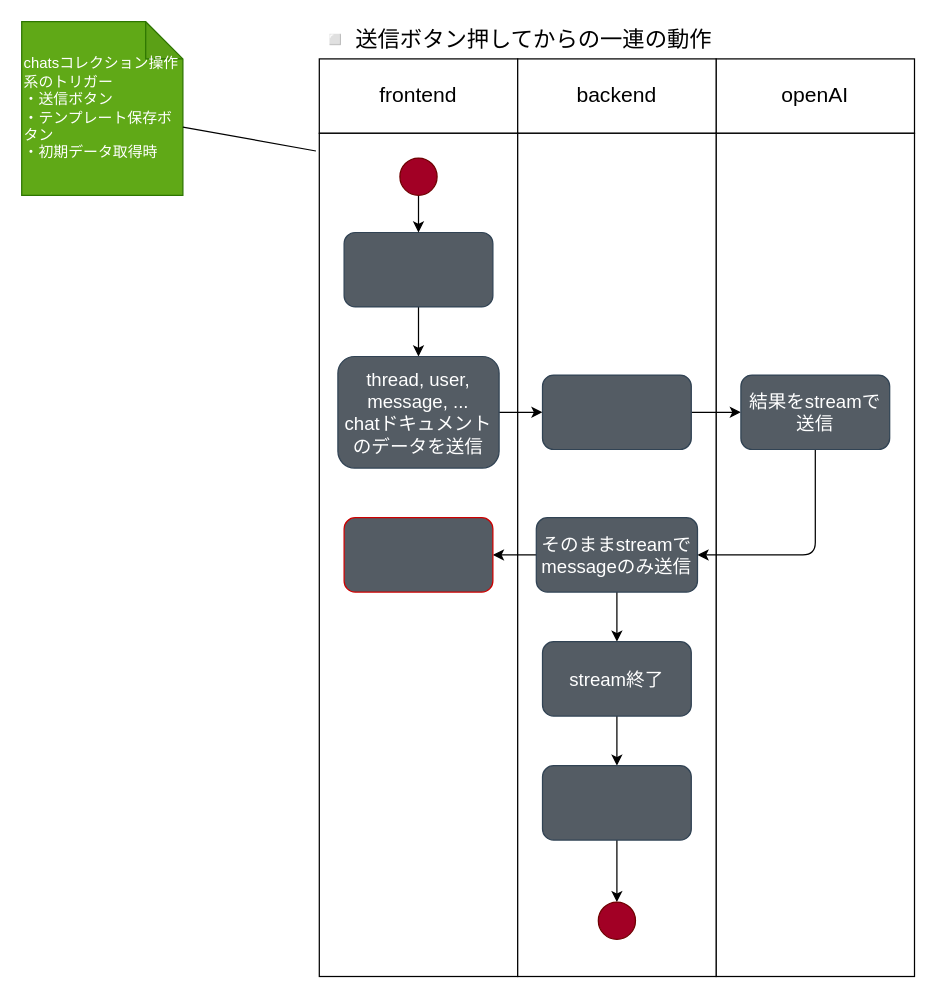
The diagram is 936 pixels wide and 998 high, and some of its shapes have lost their labels. The shapes that lost their labels are listed below. From the top down, each one's centre as x and y in pixels, then its label:
At (418,269): "送信ボタン押下".
At (616,412): "openAIのapi叩く".
At (418,554): "messageを表示".
At (616,802): "chatコレクションに保存".
